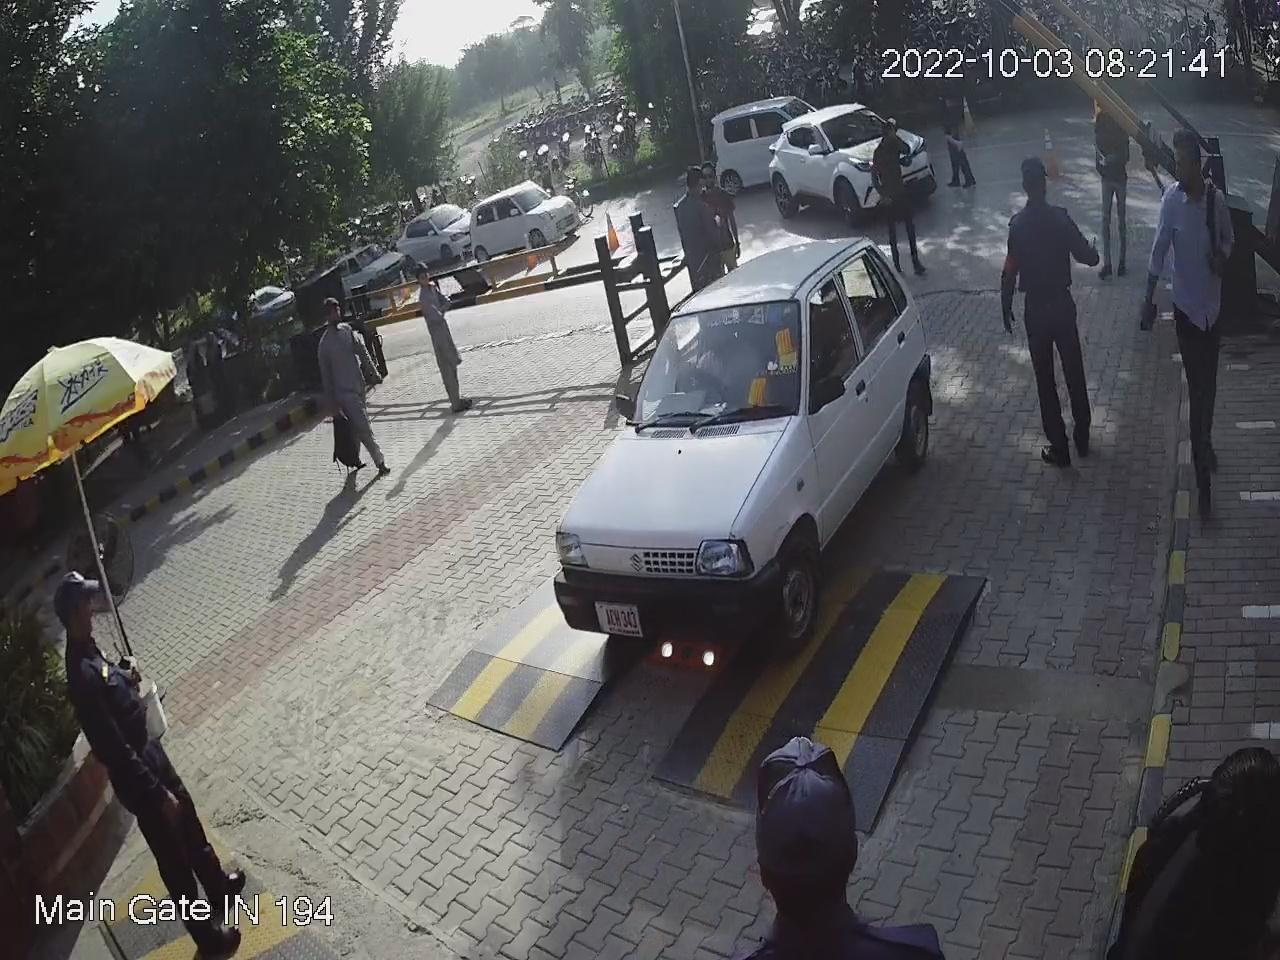windshield: (621, 282, 808, 430)
